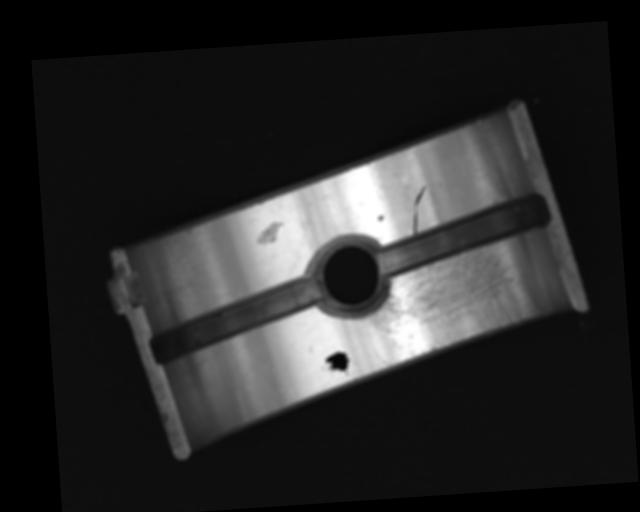blot: (319, 350, 352, 376)
bruise: (255, 221, 284, 246), (377, 213, 384, 221)
gap: (372, 191, 554, 278), (147, 275, 325, 363)
hole: (308, 234, 391, 319)
nick: (408, 184, 429, 235)
scratch: (357, 239, 543, 364)
